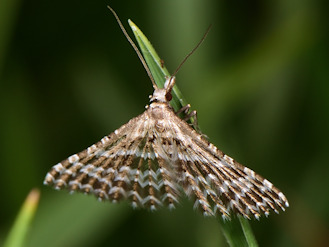Alucitidae: (35, 8, 292, 224)
moth: (33, 6, 290, 222)
